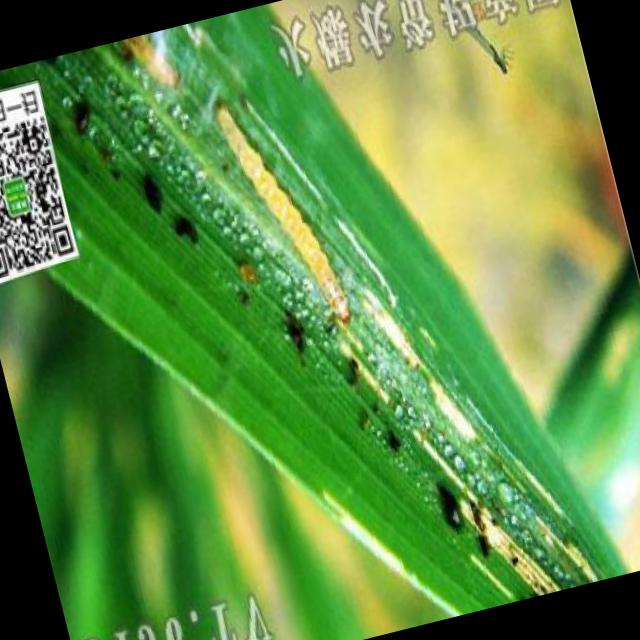leaf-folder: (197, 75, 360, 364)
